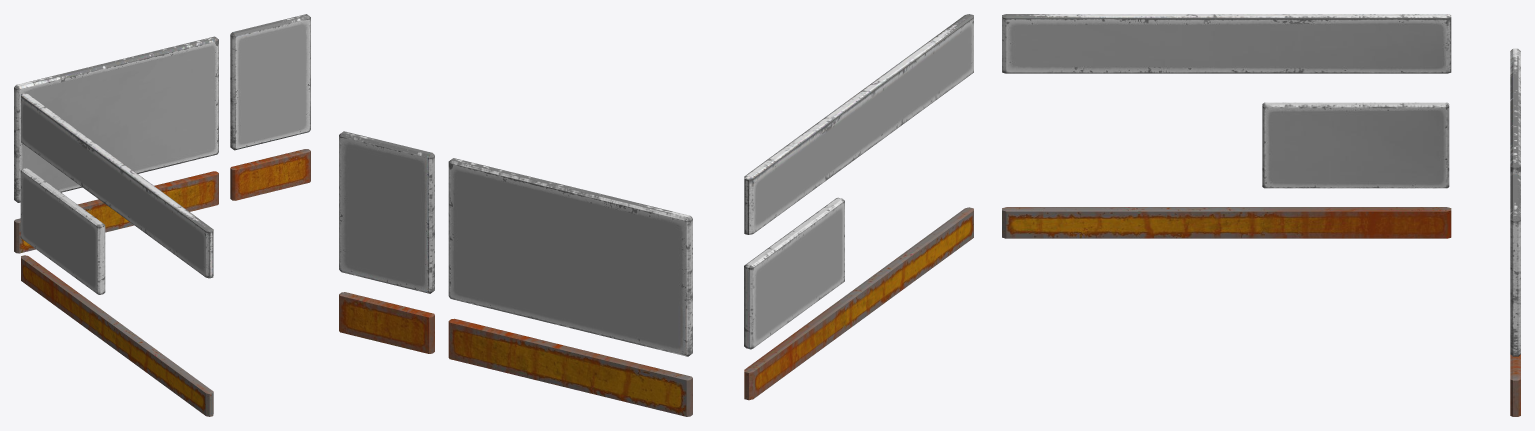
Rendered from bdwallr.fbx.
3 views of the same model, side by side, from view 1: azimuth 30°, elevation 25°; view 2: azimuth 150°, elevation 25°; view 3: azimuth 270°, elevation 25° (orthographic). The views are drawn at different scales.
Visible parts, largest first — view 1: pCube34; view 2: pCube34; view 3: pCube34.
Part boxes in pixels (x1=…): pCube34: x1=14, y1=14, x2=310, y2=416; pCube34: x1=339, y1=14, x2=973, y2=416; pCube34: x1=1002, y1=14, x2=1520, y2=416.
Bounding box in the file's own units: 4.04 × 2.26 × 4.79.
Materials: 1 (1 with a texture image).
